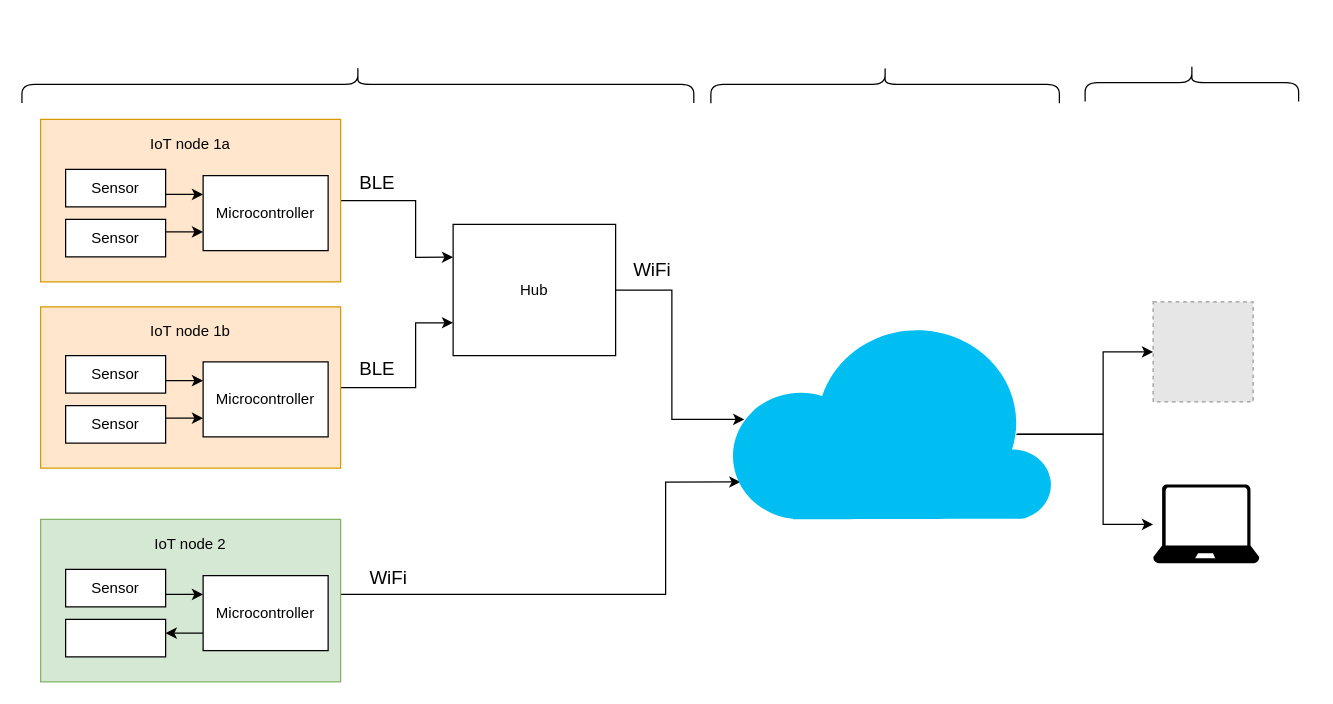
This 1333x704 diagram has some shape labels left out. Grey dashed boxes stand in for pictures. The shapes that lost their labels are listed below. From the top down, each one's centre as x and y in pixels, then its label:
[357,83]: Data Acquisition
[884,83]: Data Elaboration
[1191,82]: Results
[890,419]: Cloud Computing
[115,637]: Actuator
